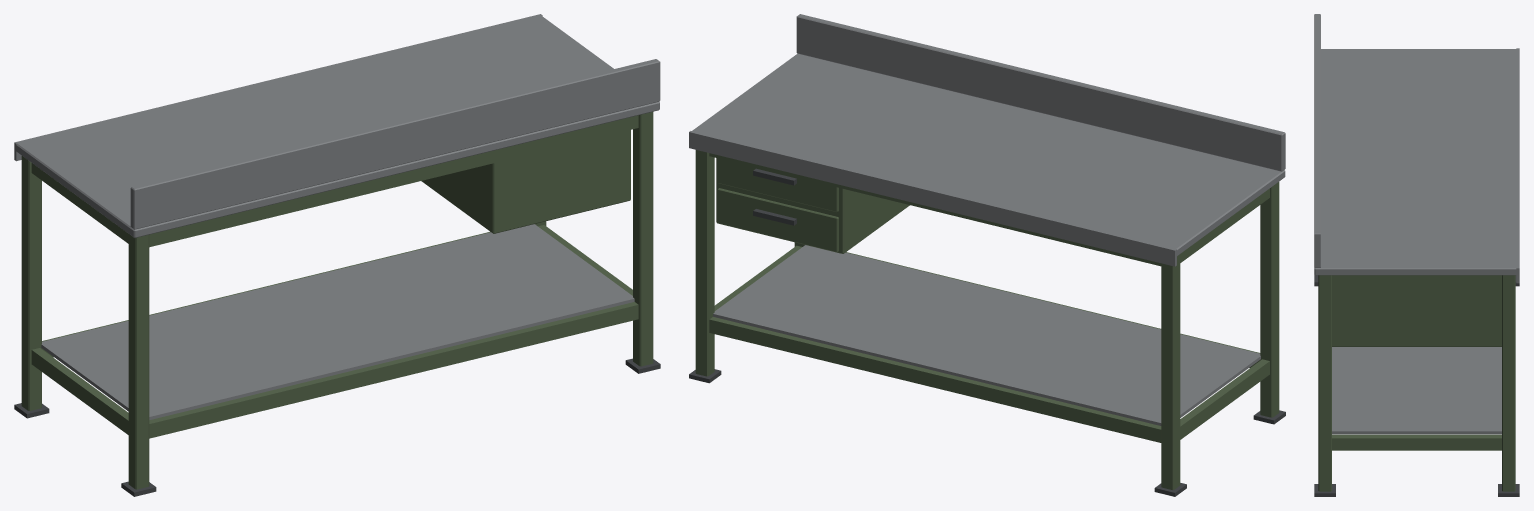
Rendered from ZR_SteelBench.fbx.
3 renders of one model, left to right at view 1: azimuth 30°, elevation 25°; view 2: azimuth 150°, elevation 25°; view 3: azimuth 270°, elevation 25°, orthographic. The views are drawn at different scales.
Parts seen in each view (by area): view 1: ZR_SteelBench; view 2: ZR_SteelBench; view 3: ZR_SteelBench.
Part boxes in pixels (<box>): ZR_SteelBench: <box>14,14,660,496</box>; ZR_SteelBench: <box>689,14,1285,496</box>; ZR_SteelBench: <box>1314,14,1519,496</box>.
Size of the model in its own units: 1.9 by 1.06 by 0.75.
